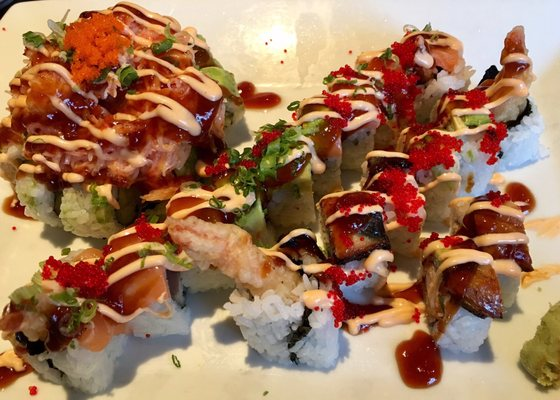soup: (1, 4, 251, 237)
